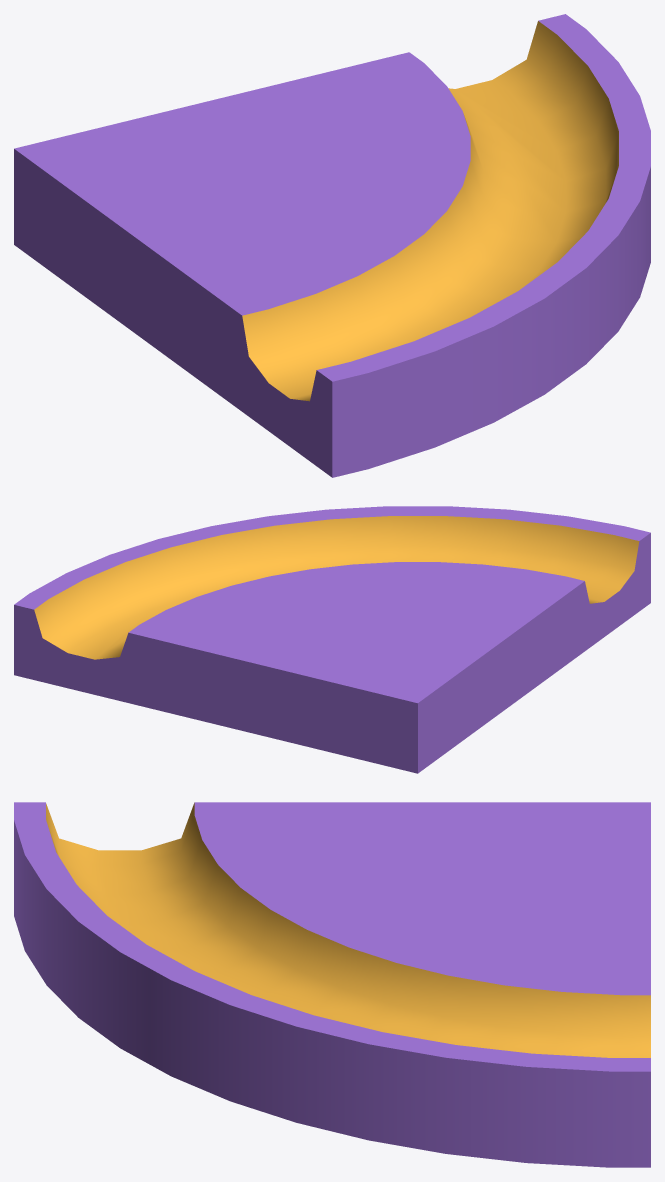
The model's file is curve-solid-large.glb.
The picture shows the model from 3 angles, top to bottom: view 1: azimuth 30°, elevation 25°; view 2: azimuth 150°, elevation 25°; view 3: azimuth 270°, elevation 25°; orthographic projection. The views are drawn at different scales.
Visible parts, largest first — view 1: curve-solid-large; view 2: curve-solid-large; view 3: curve-solid-large.
Part boxes in pixels (x1,y1,x2,y2): curve-solid-large: (14, 14, 650, 477); curve-solid-large: (14, 506, 650, 773); curve-solid-large: (14, 802, 650, 1167).
Bounding box in the file's own units: 3 × 0.4999 × 3.
Materials: 1 (1 with a texture image).
